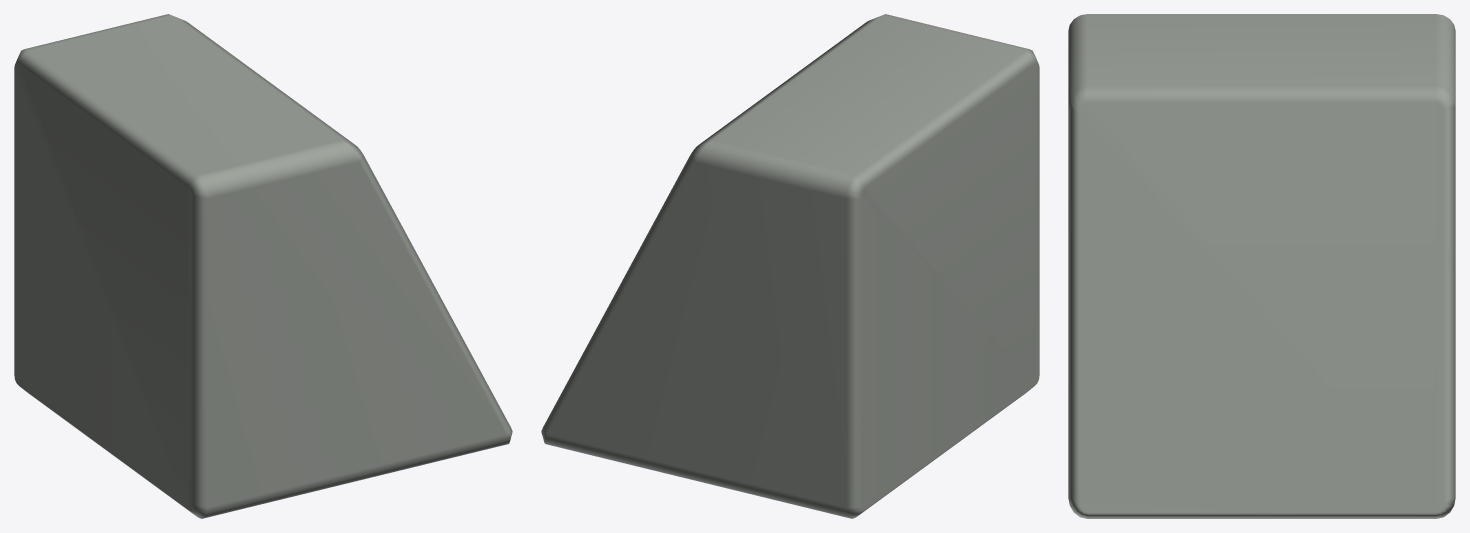
The model's file is Env_Wall_SpaceStation_Straight_1x1.fbx.
3 views of the same model, side by side, from view 1: azimuth 30°, elevation 25°; view 2: azimuth 150°, elevation 25°; view 3: azimuth 270°, elevation 25° (orthographic). The views are drawn at different scales.
Visible parts, largest first — view 1: Wall_1x1; view 2: Wall_1x1; view 3: Wall_1x1.
Boxes of the visible parts, bbox=[...] form: Wall_1x1: bbox=[14, 14, 512, 518]; Wall_1x1: bbox=[541, 14, 1039, 518]; Wall_1x1: bbox=[1068, 14, 1455, 518].
Size of the model in its own units: 98.66 by 100 by 100.
